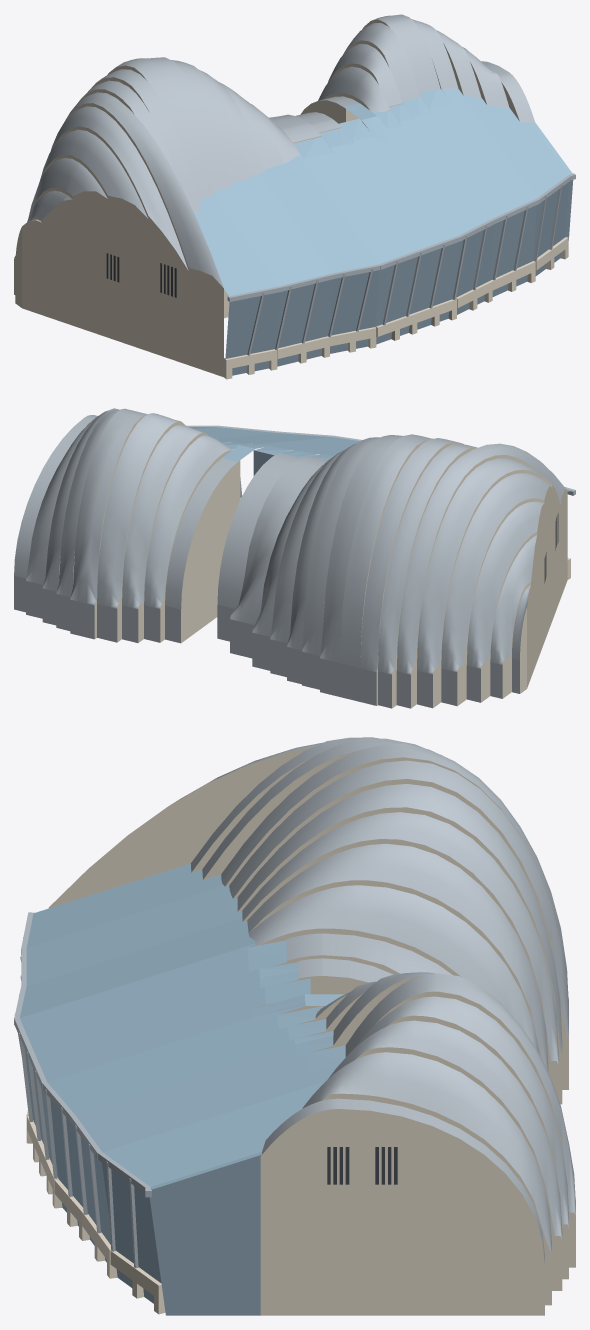
Rendered from kc-kauffman-center.glb.
3 views of the same model, one above another, from view 1: azimuth 30°, elevation 25°; view 2: azimuth 150°, elevation 25°; view 3: azimuth 270°, elevation 25° (orthographic). The views are drawn at different scales.
Visible parts, largest first — view 1: Kauffman Center for the Performing Arts; view 2: Kauffman Center for the Performing Arts; view 3: Kauffman Center for the Performing Arts.
Part boxes in pixels (<box>): Kauffman Center for the Performing Arts: <box>14,14,575,379</box>; Kauffman Center for the Performing Arts: <box>14,408,575,708</box>; Kauffman Center for the Performing Arts: <box>14,737,575,1315</box>.
Size of the model in its own units: 115 by 50.9 by 81.55.
